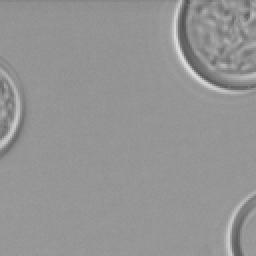picoshell: (172, 0, 254, 92), (0, 58, 24, 156), (230, 196, 254, 254)
